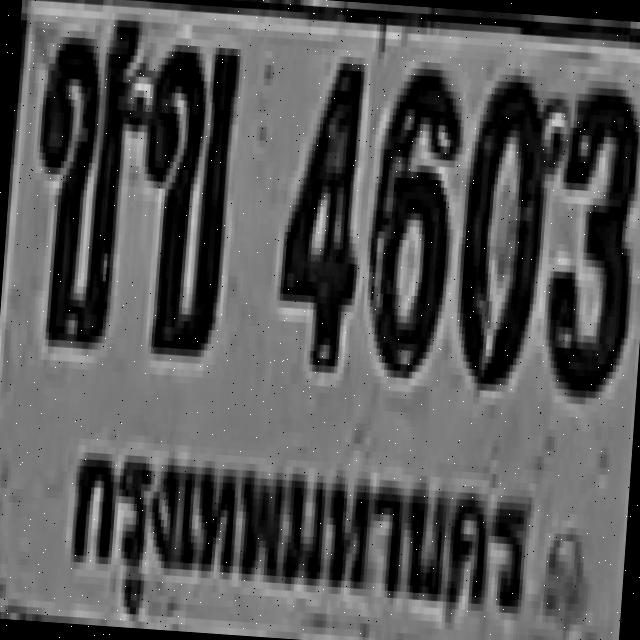0: (452, 65, 558, 387)
11KhorKhai: (128, 36, 240, 350)
19ChorChang: (23, 4, 143, 340)
3: (539, 78, 640, 392)
4: (272, 52, 368, 366)
6: (359, 59, 461, 373)
Bangkok: (54, 424, 546, 636)
